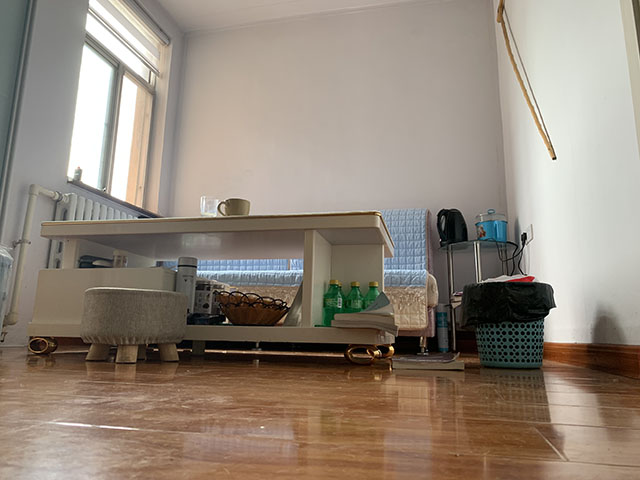book: (391, 350, 465, 371)
sofa: (195, 209, 440, 357)
stool: (80, 287, 190, 365)
table: (24, 209, 399, 364), (438, 239, 518, 356)
trashcan: (459, 273, 559, 371)
